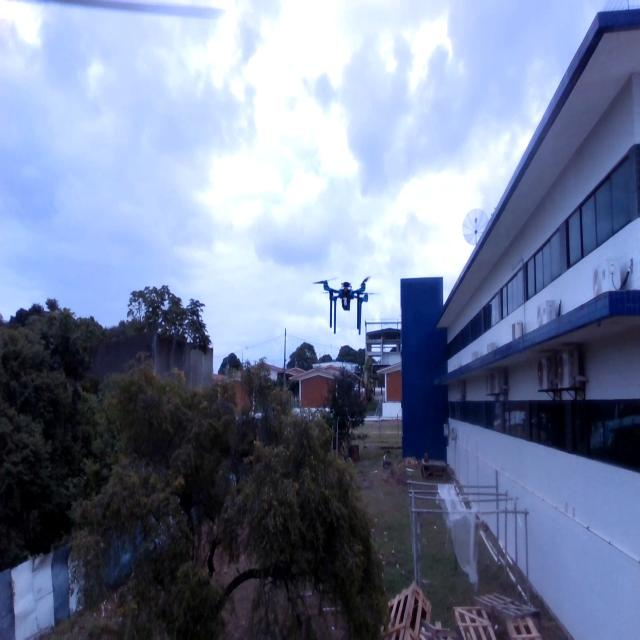-uav-: (310, 265, 379, 345)
